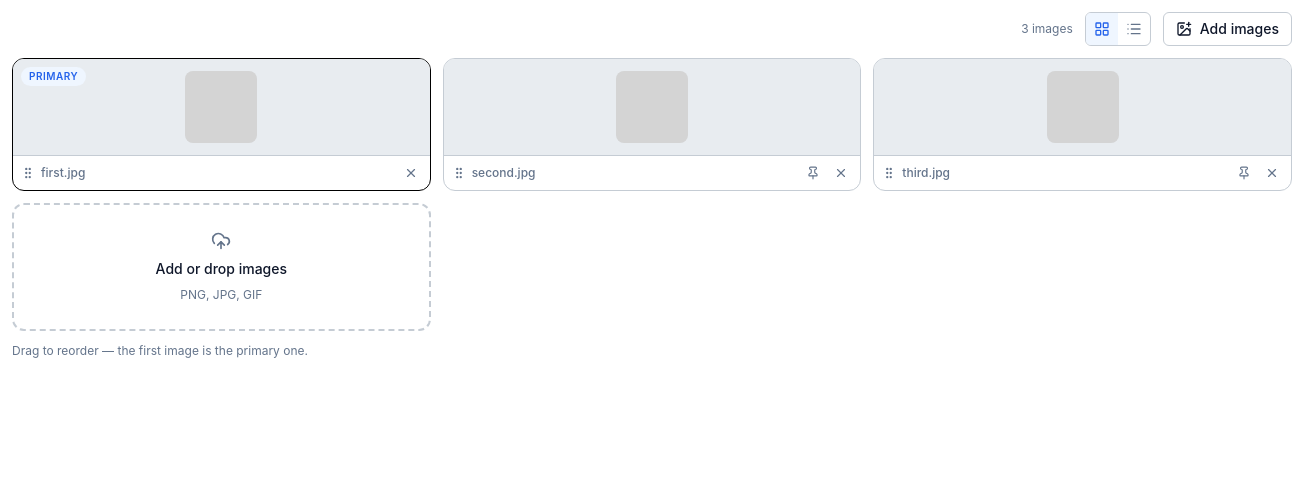
Test case: ImageGalleryManager › details panel › disables the primary action when the selected image already is primary
Click the button named "image details: first.jpg" at (221, 107), box x1=13 y1=59 x2=430 y2=155
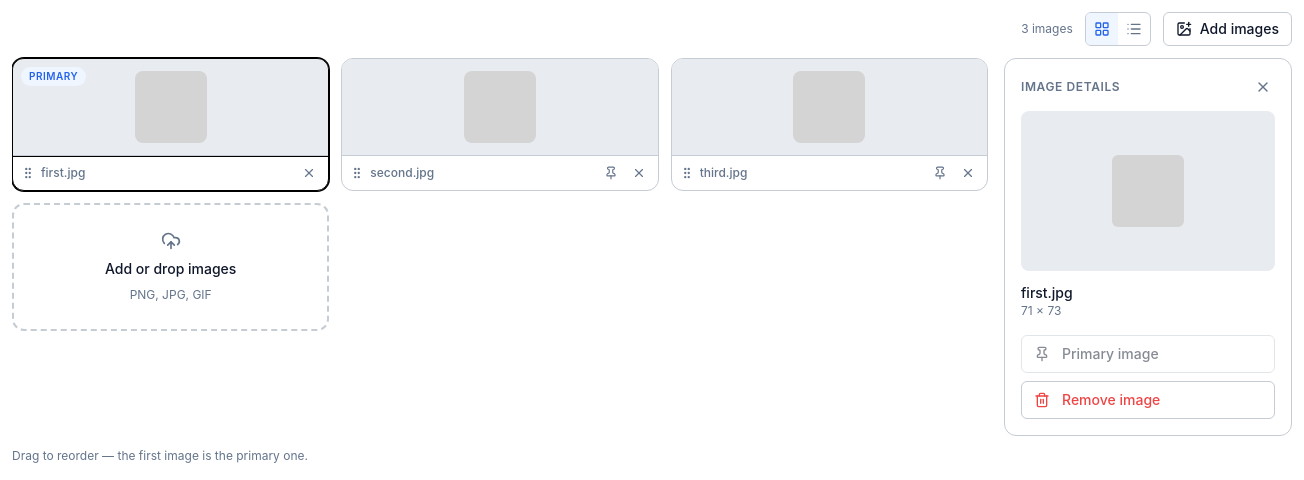
Expected: the button "Primary image" is disabled, x1=1021 y1=335 x2=1275 y2=373
